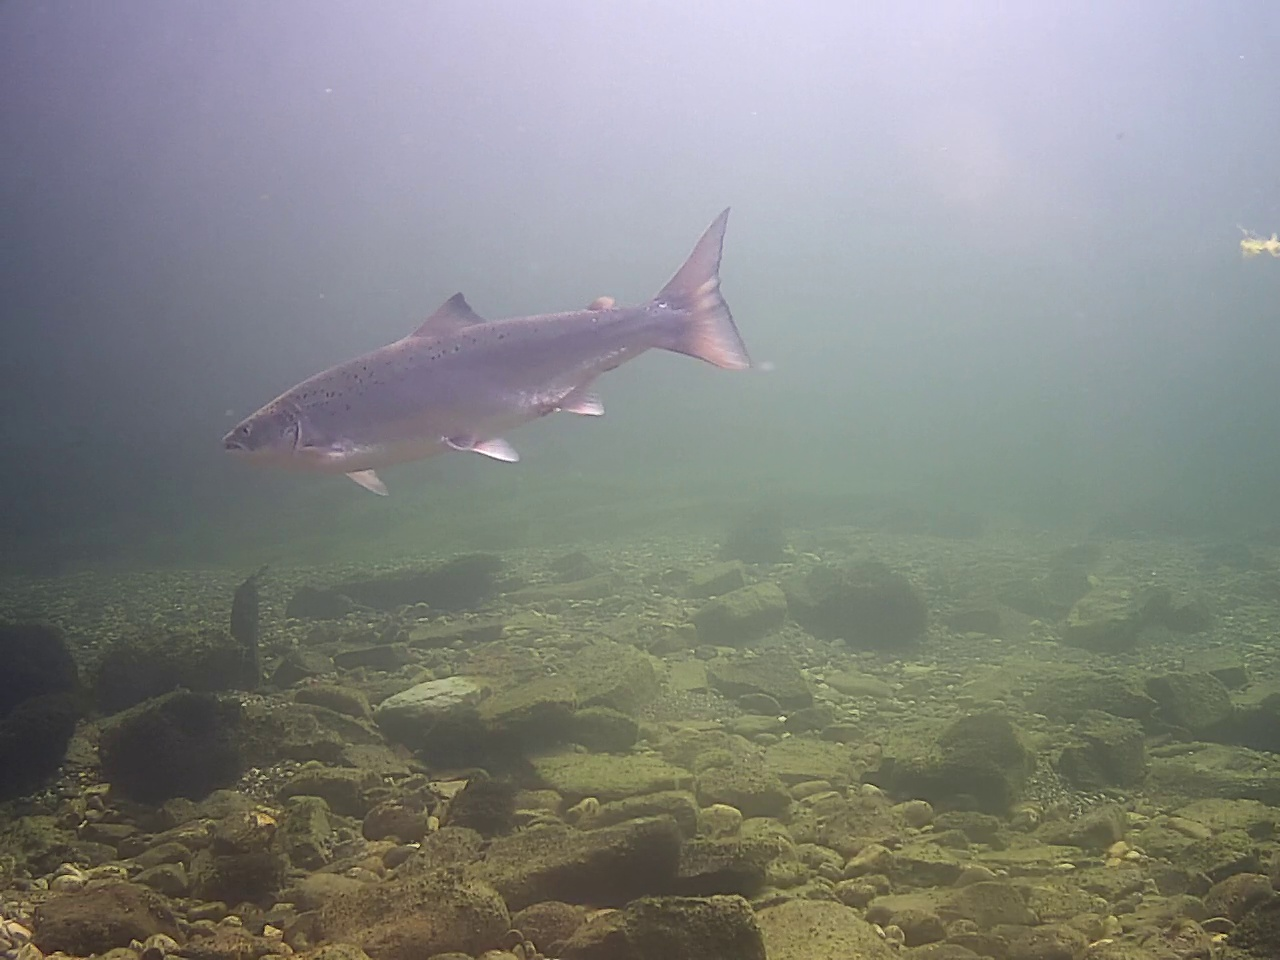salmon: (221, 204, 756, 501)
